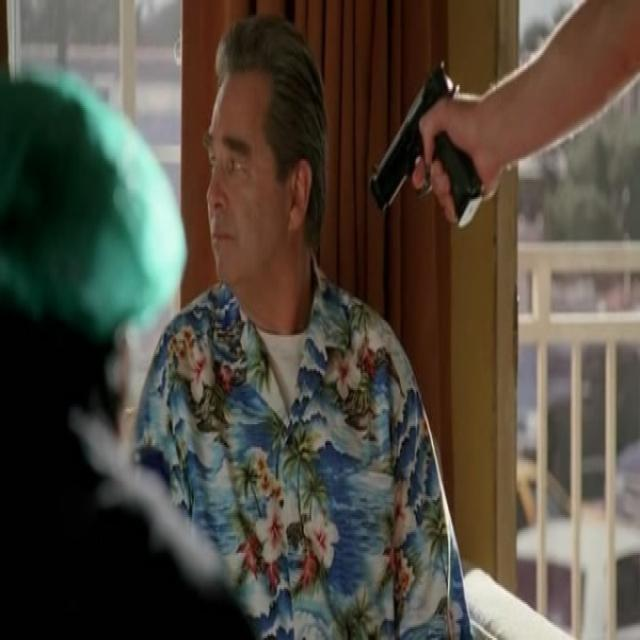weapons: (364, 43, 489, 254)
